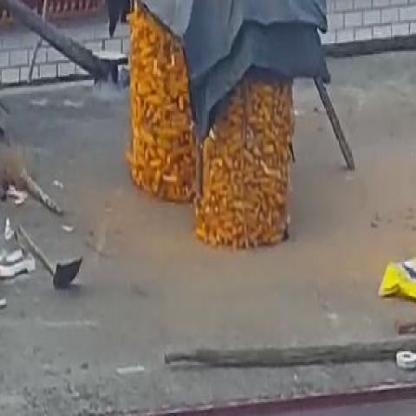other: (131, 15, 315, 264), (372, 242, 414, 312)
